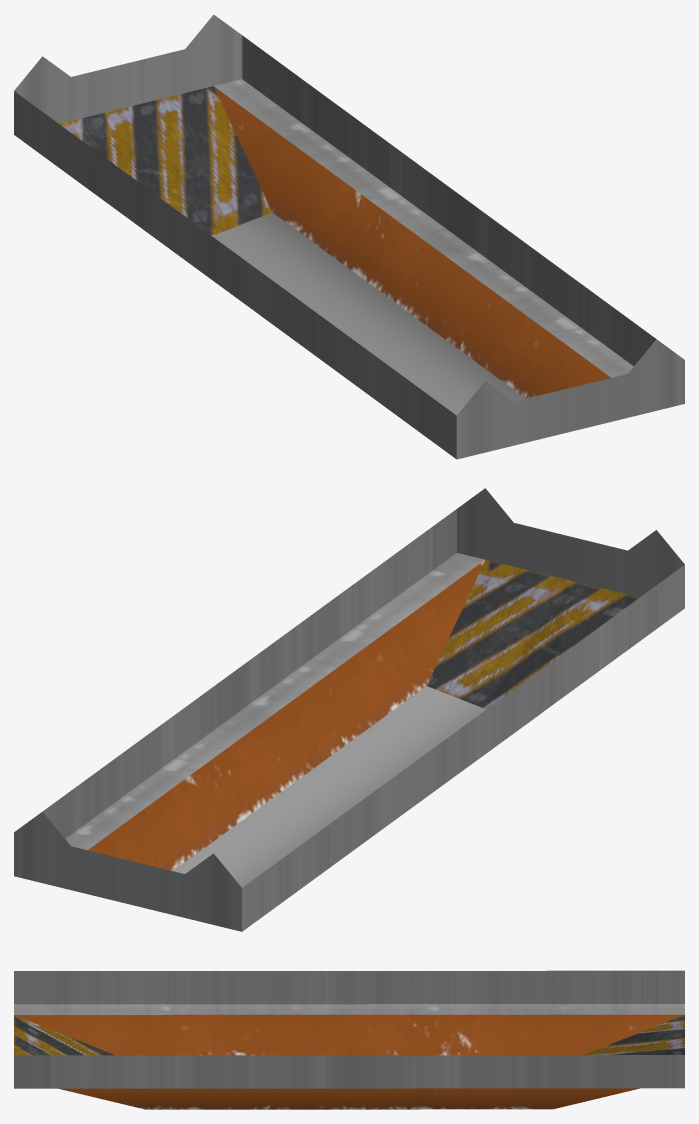
Rendered from hallway light.FBX.
3 views of the same model, one above another, from view 1: azimuth 30°, elevation 25°; view 2: azimuth 150°, elevation 25°; view 3: azimuth 270°, elevation 25° (orthographic). The views are drawn at different scales.
Visible parts, largest first — view 1: Object028; view 2: Object028; view 3: Object028.
Boxes of the visible parts, x1,y1,x2,y2 form: Object028: (14,14,684,459); Object028: (14,488,684,931); Object028: (14,970,684,1109).
Size of the model in its own units: 22.64 by 12.91 by 76.04.
Materials: 2 (1 with a texture image).
